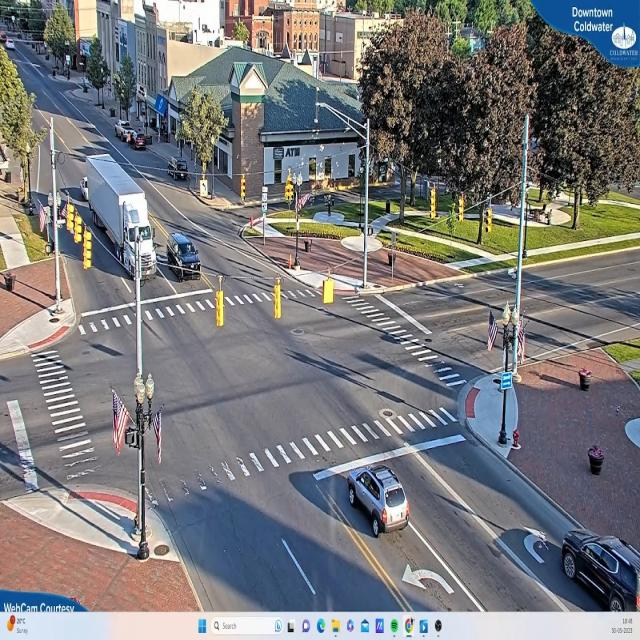car: (562, 532, 640, 610), (347, 467, 410, 538), (130, 134, 148, 150)
truck: (85, 145, 160, 285)
